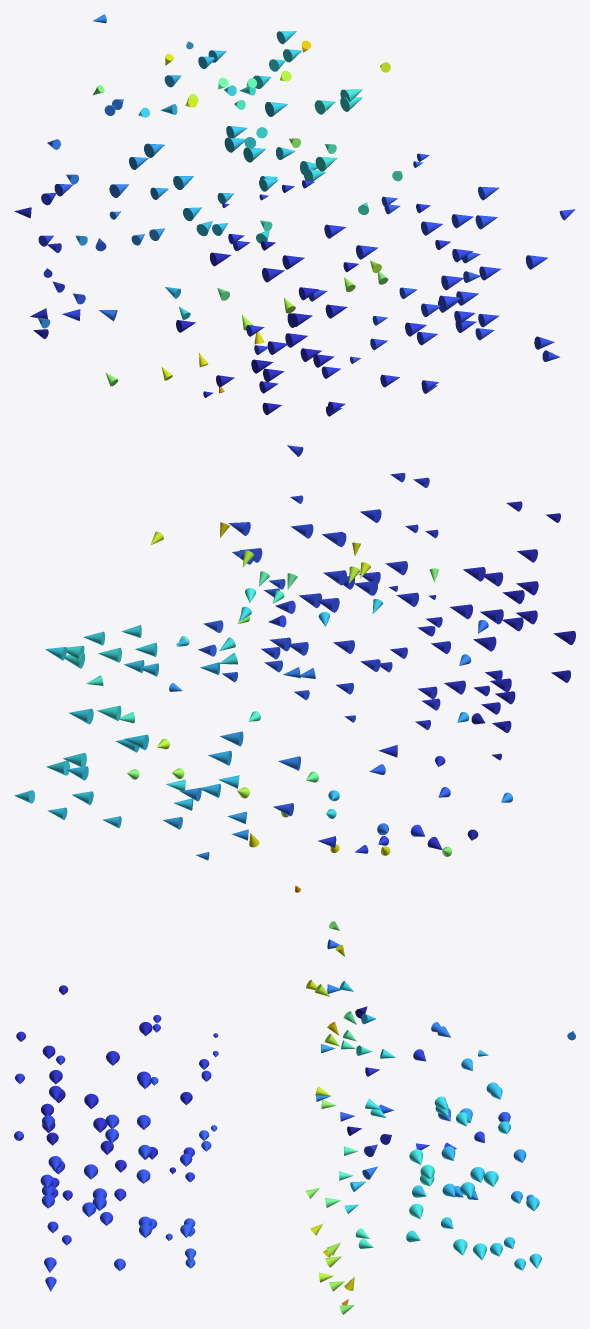
The model's file is LineasCorrienteN2-H2O_mh2-1.38_V-1.glb.
The picture shows the model from 3 angles, top to bottom: view 1: azimuth 30°, elevation 25°; view 2: azimuth 150°, elevation 25°; view 3: azimuth 270°, elevation 25°; orthographic projection. The views are drawn at different scales.
Size of the model in its own units: 0.000955 by 0.00083 by 0.00126.
Materials: 2 (2 with a texture image).
